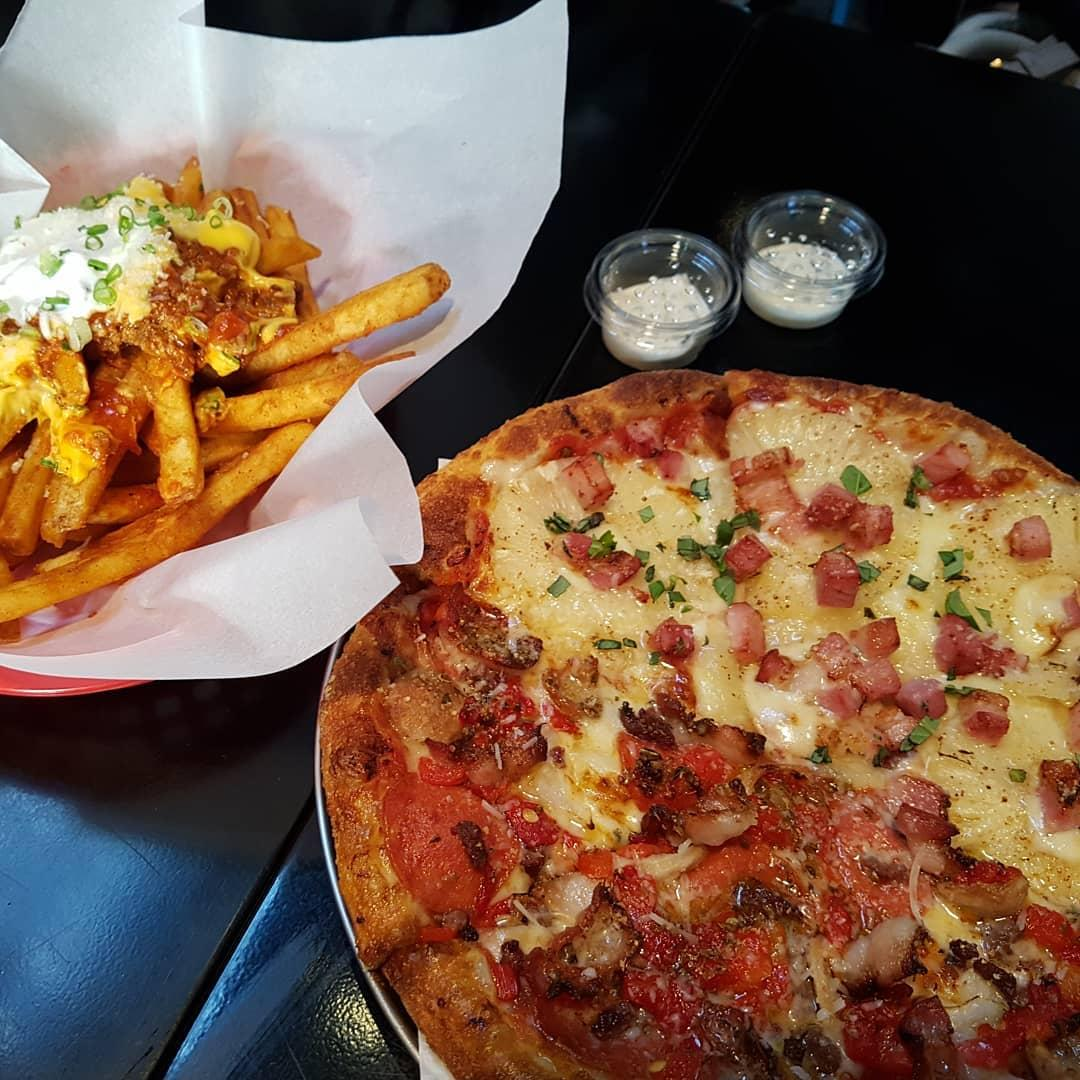Ham: (920, 608, 1018, 679), (893, 766, 958, 837), (561, 529, 643, 585), (1032, 752, 1080, 839), (558, 448, 620, 512), (903, 434, 973, 489), (723, 437, 810, 481), (848, 650, 912, 707), (808, 546, 866, 608), (721, 525, 776, 587), (716, 601, 771, 662), (728, 471, 799, 518), (899, 669, 956, 727), (1000, 509, 1056, 564), (963, 681, 1020, 735), (847, 498, 907, 548), (805, 624, 857, 680), (808, 477, 864, 529), (926, 462, 986, 509), (620, 408, 673, 457), (815, 676, 868, 721), (758, 642, 800, 695), (854, 616, 909, 656), (1046, 588, 1080, 638), (660, 445, 693, 491)
Pepperoni: (365, 772, 526, 922), (521, 983, 700, 1080), (417, 587, 516, 683), (533, 817, 562, 854)
Peppers: (831, 983, 913, 1074), (687, 923, 775, 997), (606, 968, 705, 1030), (621, 733, 706, 805), (1000, 974, 1080, 1046), (415, 731, 503, 791), (1015, 896, 1080, 968), (597, 863, 664, 918), (961, 1015, 1025, 1071), (631, 913, 686, 976), (808, 876, 854, 949), (477, 947, 528, 1001), (681, 738, 746, 779), (761, 790, 806, 847), (566, 840, 620, 886), (480, 689, 546, 725)
Pizza: (320, 356, 1080, 1080)
